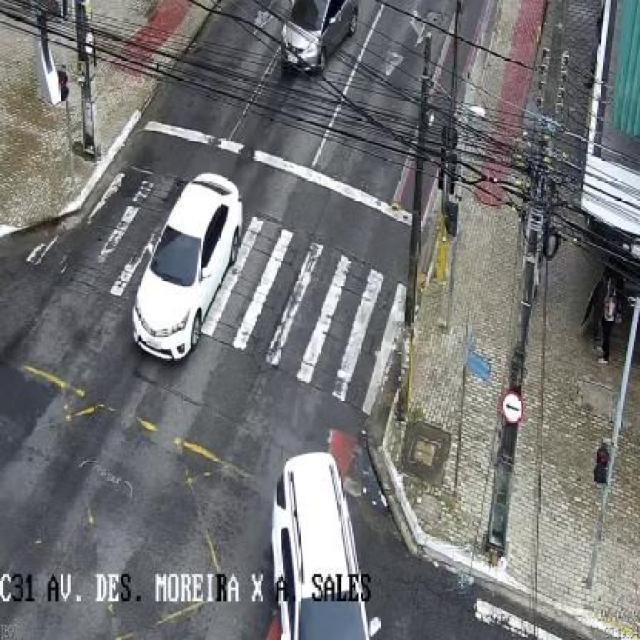Car: (131, 170, 245, 364), (272, 450, 382, 640), (279, 0, 362, 77)
